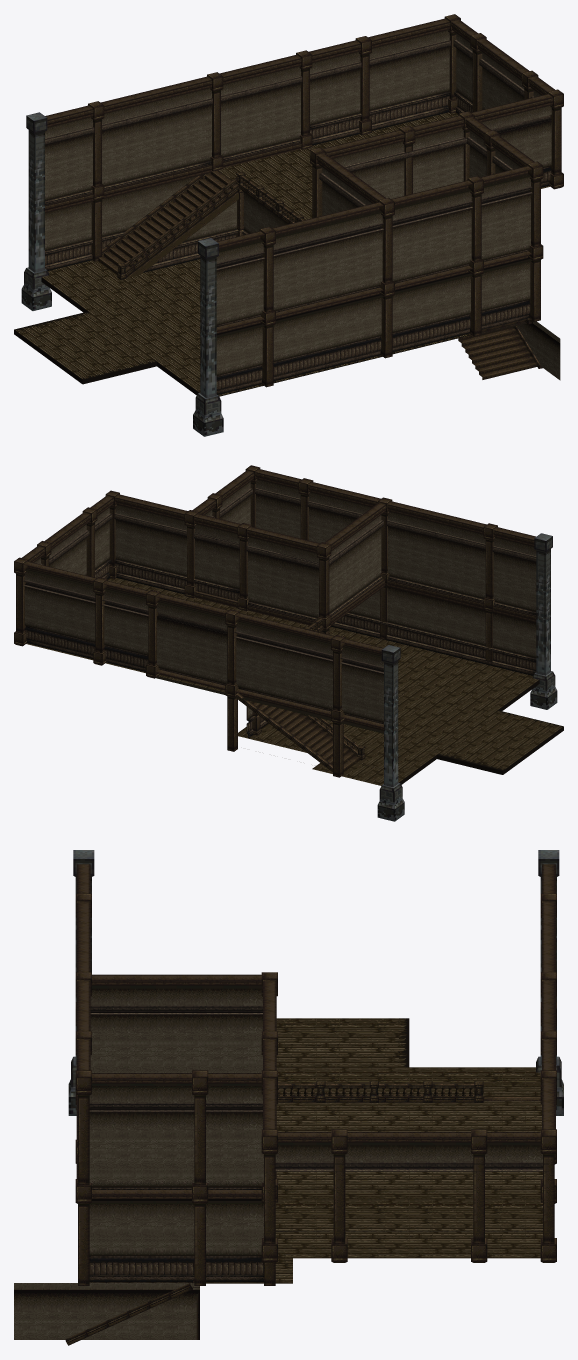
Rendered from EnvBdgMD_Snow_Mansion_A_Indoor_C.FBX.
3 views of the same model, one above another, from view 1: azimuth 30°, elevation 25°; view 2: azimuth 150°, elevation 25°; view 3: azimuth 270°, elevation 25° (orthographic). The views are drawn at different scales.
Parts seen in each view (by area): view 1: EnvBdgMD_Snow_Mansion_A_Indoor_C; view 2: EnvBdgMD_Snow_Mansion_A_Indoor_C; view 3: EnvBdgMD_Snow_Mansion_A_Indoor_C.
Boxes of the visible parts, x1,y1,x2,y2 form: EnvBdgMD_Snow_Mansion_A_Indoor_C: [14, 14, 563, 436]; EnvBdgMD_Snow_Mansion_A_Indoor_C: [14, 465, 563, 821]; EnvBdgMD_Snow_Mansion_A_Indoor_C: [14, 850, 563, 1345].
Size of the model in its own units: 3335 by 1298 by 2365.
